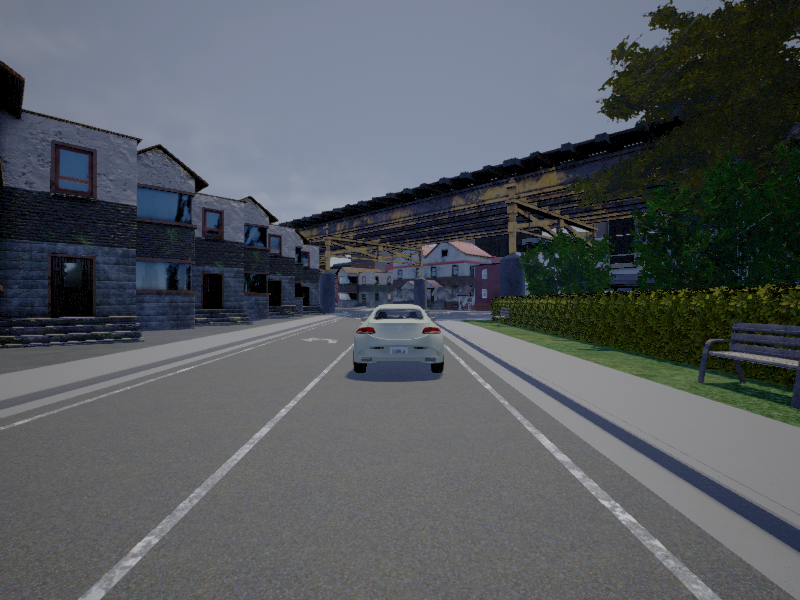Benign: (355, 304, 445, 375)
